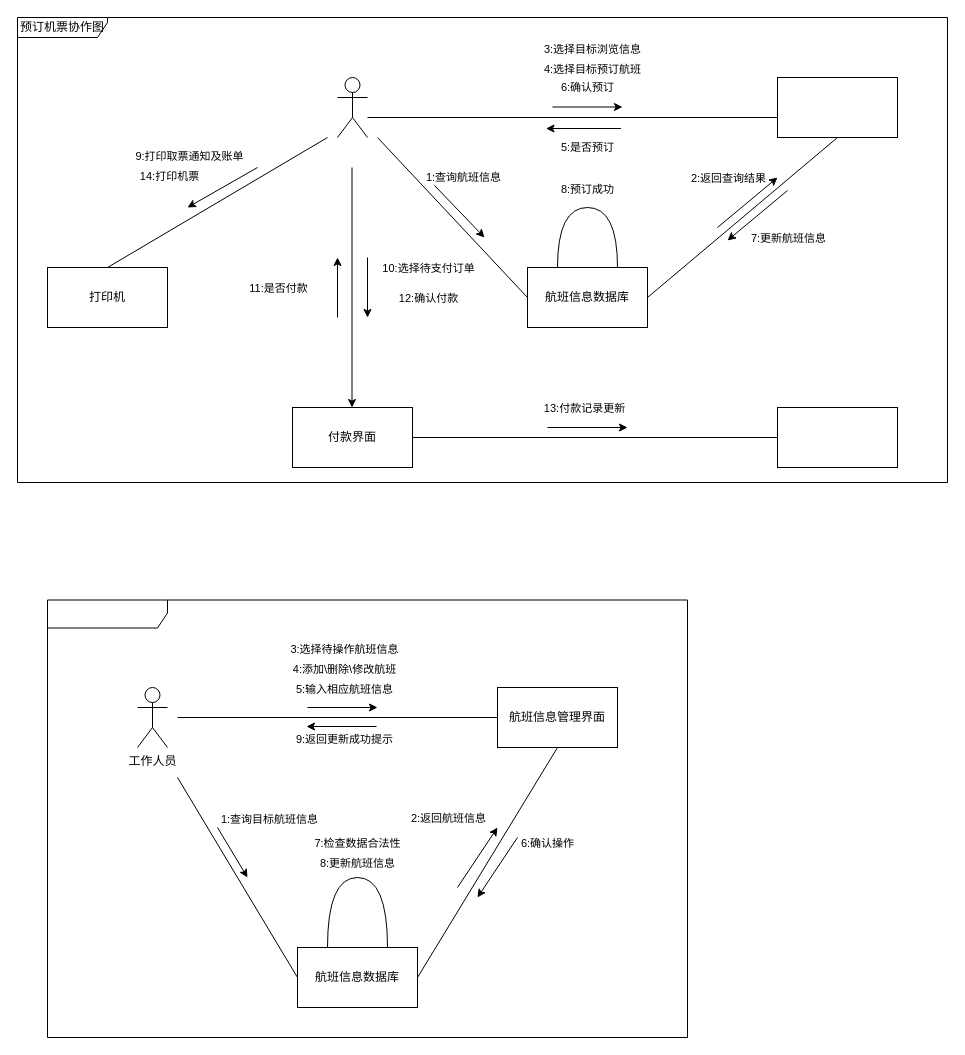
Some shapes in this 965 by 1055 pixel diagram are drawn without their labels. The centre of each missing label's shape, as x and y in pixels:
"付款记录数据库" belongs at pixel 837 437.
"工作人员操作航班信息协作图" belongs at pixel 367 818.
"旅客" belongs at pixel 352 107.
"用户界面" belongs at pixel 837 107.
